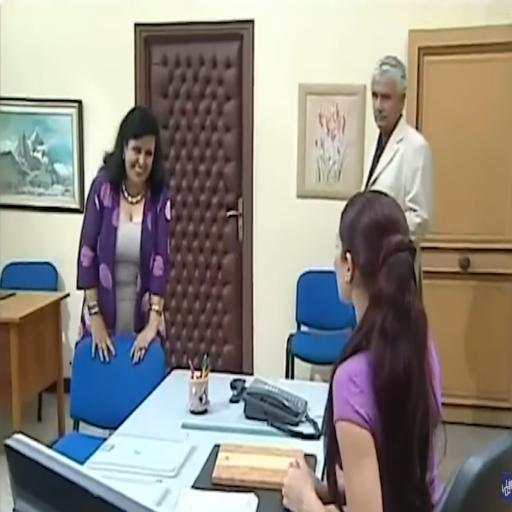Dalanda: (334, 191, 415, 320)
jannet: (105, 106, 166, 197)
